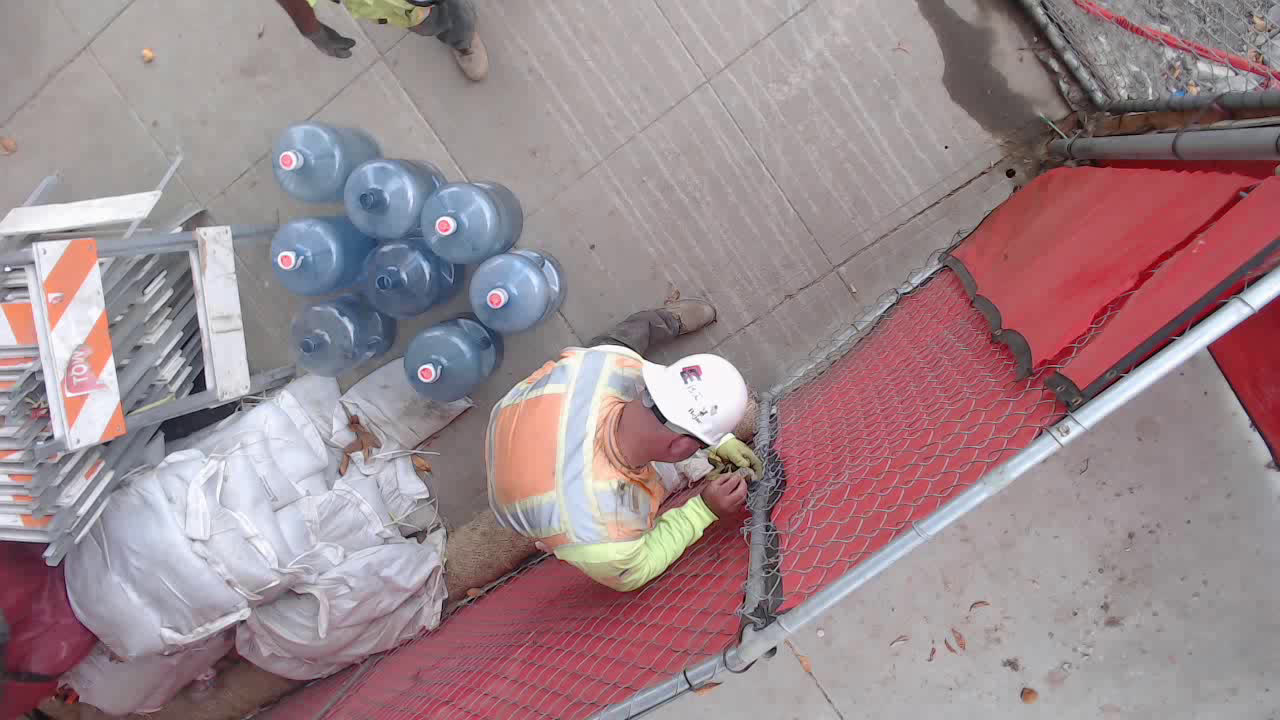hardhat: (637, 352, 751, 456)
safetyvest: (491, 353, 653, 551)
